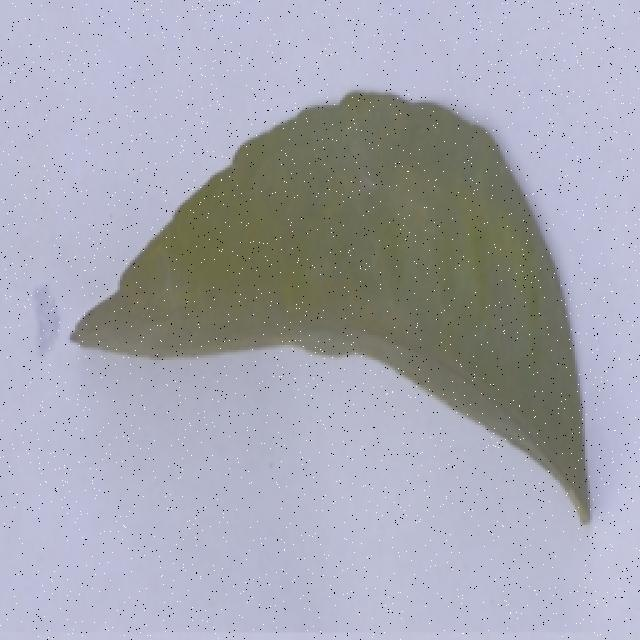greening: (71, 64, 600, 548)
